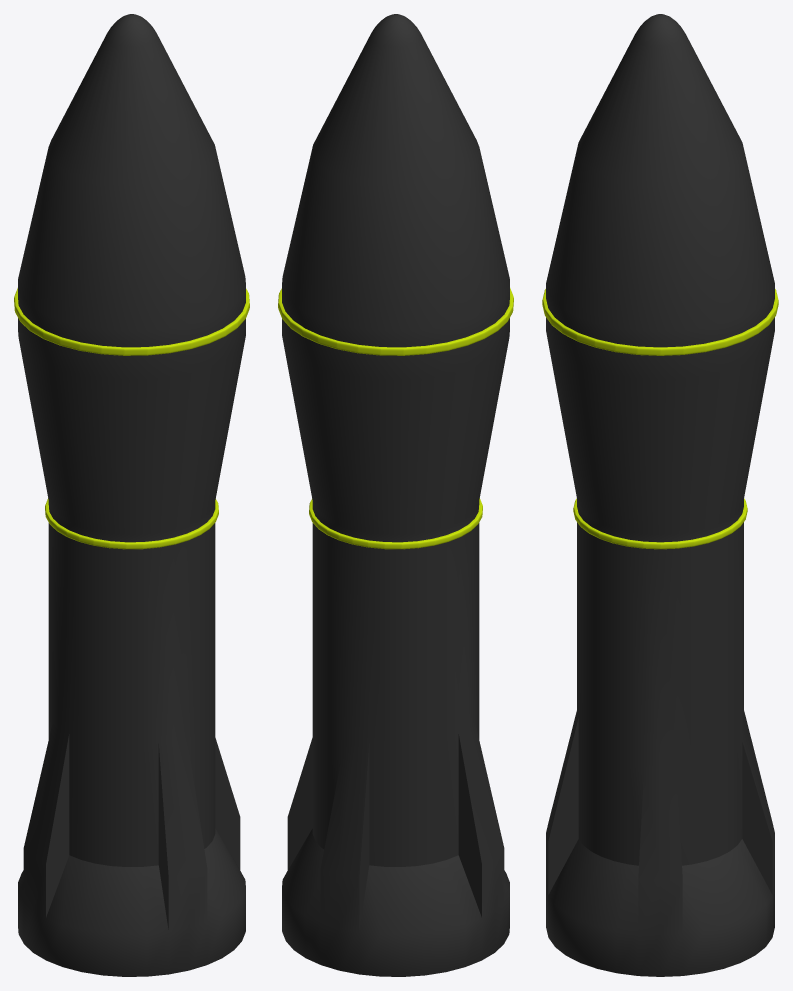
The model's file is Rocket Launcher Projectile V2fbx.fbx.
3 views of the same model, side by side, from view 1: azimuth 30°, elevation 25°; view 2: azimuth 150°, elevation 25°; view 3: azimuth 270°, elevation 25° (orthographic).
Visible parts, largest first — view 1: Rocket.003; view 2: Rocket.003; view 3: Rocket.003.
Boxes of the visible parts, x1=… form: Rocket.003: x1=14, y1=14, x2=249, y2=976; Rocket.003: x1=278, y1=14, x2=513, y2=976; Rocket.003: x1=542, y1=14, x2=778, y2=976.
Size of the model in its own units: 31.88 by 136 by 31.88.
